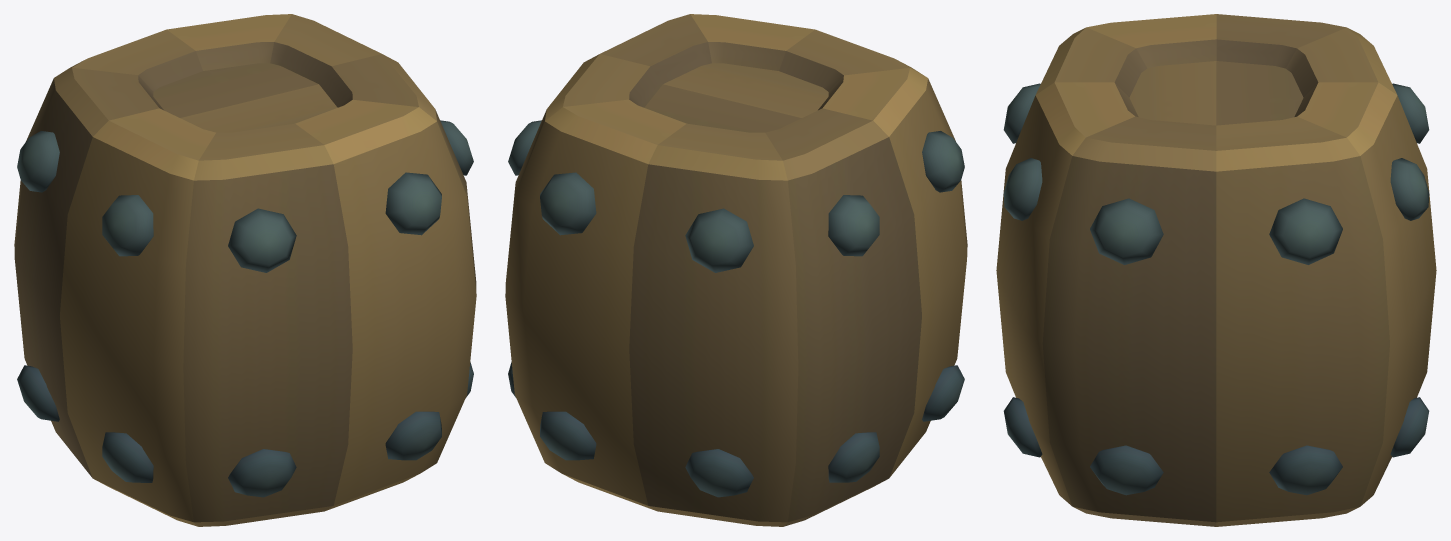
The model's file is barrel_1.fbx.
3 views of the same model, side by side, from view 1: azimuth 30°, elevation 25°; view 2: azimuth 150°, elevation 25°; view 3: azimuth 270°, elevation 25° (orthographic). The views are drawn at different scales.
Visible parts, largest first — view 1: barrel_1; view 2: barrel_1; view 3: barrel_1.
Boxes of the visible parts, <box> form: barrel_1: <box>14,14,476,526</box>; barrel_1: <box>505,14,967,526</box>; barrel_1: <box>996,14,1436,526</box>.
Size of the model in its own units: 106 by 100 by 106.
